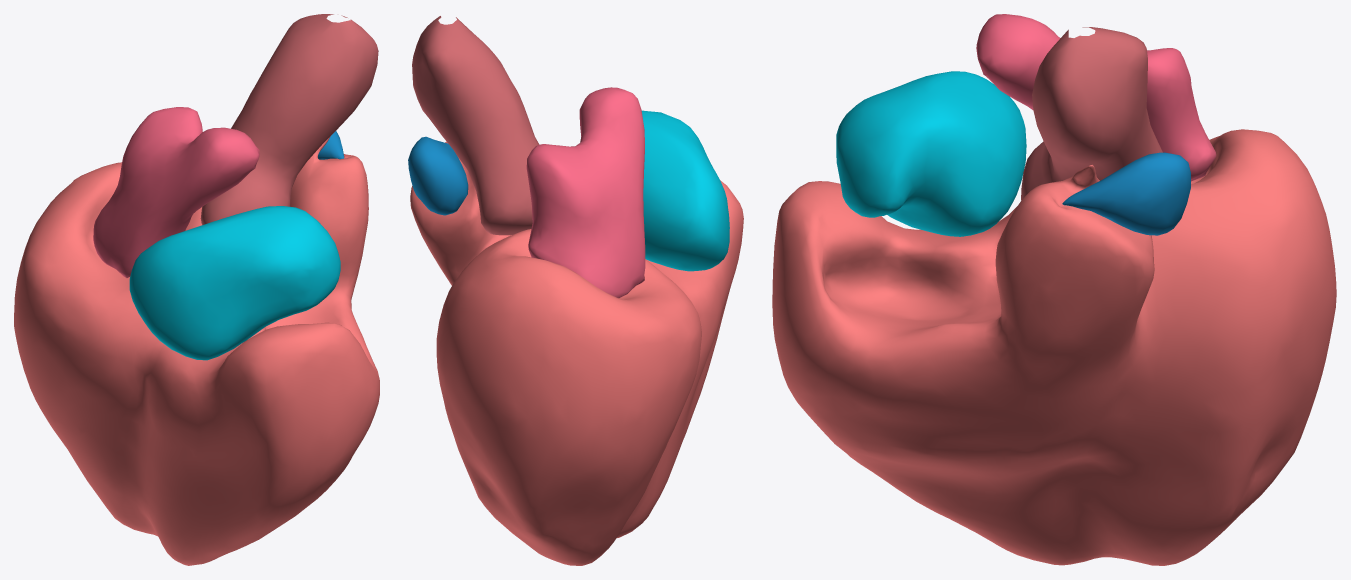
The model's file is frame_73.glb.
The picture shows the model from 3 angles, left to right: view 1: azimuth 30°, elevation 25°; view 2: azimuth 150°, elevation 25°; view 3: azimuth 270°, elevation 25°; orthographic projection. The views are drawn at different scales.
Visible parts, largest first — view 1: Renderer Node; view 2: Renderer Node; view 3: Renderer Node.
Boxes of the visible parts, x1,y1,x2,y2 form: Renderer Node: (14,14,379,565); Renderer Node: (408,16,743,565); Renderer Node: (772,14,1336,565).
Size of the model in its own units: 102 by 158 by 128.
